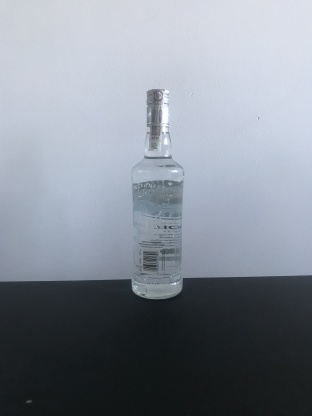nakretka: (142, 83, 172, 131)
